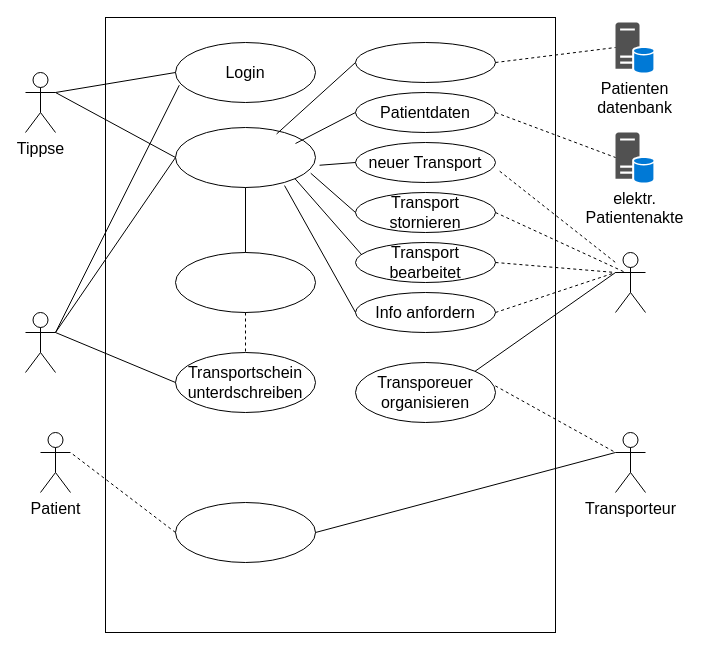
This 710x650 diagram has some shape labels left out. The shapes that lost their labels are listed below. From the top down, each one's centre as x and y in pixels, then its label:
At [425,62]: "Patientensuche".
At [245,157]: "Transport (extention point o.ä.)".
At [245,282]: "Transportschein drucken".
At [630,282]: "Transportzentrale".
At [40,342]: "Arzt".
At [245,532]: "Patient abholen".
